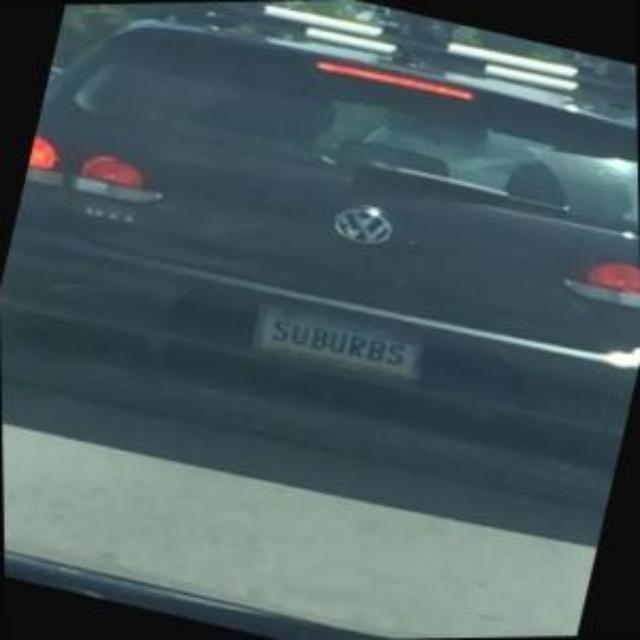License Plate: (246, 300, 427, 386)
